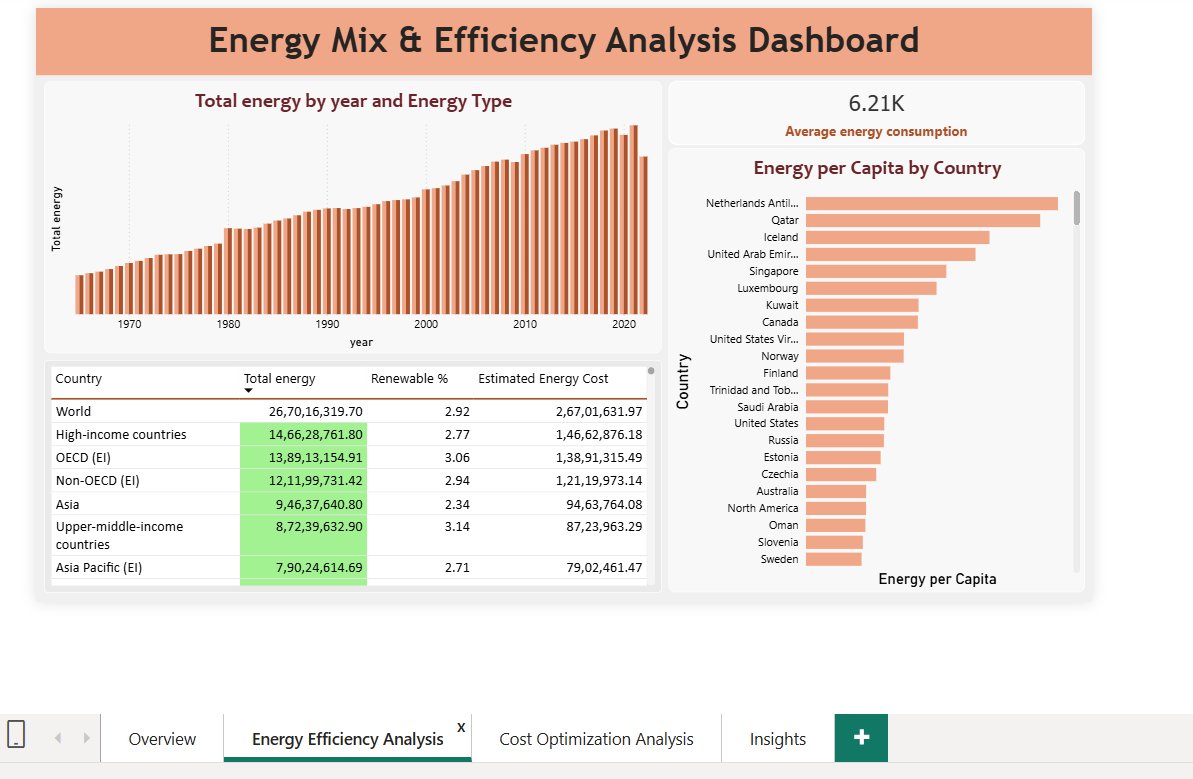

This screenshot's page, from the dashboard's own definition file:
{"tool":"powerbi","page":{"name":"Energy Efficiency Analysis","canvas":[1280,720],"ordinal":1},"visuals":[{"type":"textbox","box":[0,0,1280,81.7],"z":0},{"type":"clusteredColumnChart","fields":{"Category":["World Energy Consumption.year"],"Series":["World Energy Consumption.Energy Type"],"Y":["World Energy Consumption.Total energy"]},"box":[10,88.3,748.3,330],"z":1000},{"type":"barChart","fields":{"Category":["World Energy Consumption.country"],"Y":["World Energy Consumption.Energy per Capita"]},"box":[766.7,170,505,538.3],"z":2000},{"type":"tableEx","fields":{"Values":["World Energy Consumption.Country","World Energy Consumption.Total energy","World Energy Consumption.Renewable %","World Energy Consumption.Estimated Energy Cost"]},"box":[10,426,748.3,282],"z":3000},{"type":"card","fields":{"Values":["World Energy Consumption.Average energy consumption"]},"box":[766.7,88,505,78],"z":4000}]}

Visuals, with their boxes on the page's 1280x720 design canvas (x1, y1, x2, y2). These are canvas units, not pixel positions in the 1193x779 screenshot, which may show the page scaled, cropped or inside an application window:
textbox: bbox=[0, 0, 1280, 82]
clusteredColumnChart - World Energy Consumption.year x World Energy Consumption.Energy Type: bbox=[10, 88, 758, 418]
barChart - World Energy Consumption.country x World Energy Consumption.Energy per Capita: bbox=[767, 170, 1272, 708]
tableEx - World Energy Consumption.Country x World Energy Consumption.Total energy: bbox=[10, 426, 758, 708]
card - World Energy Consumption.Average energy consumption: bbox=[767, 88, 1272, 166]
